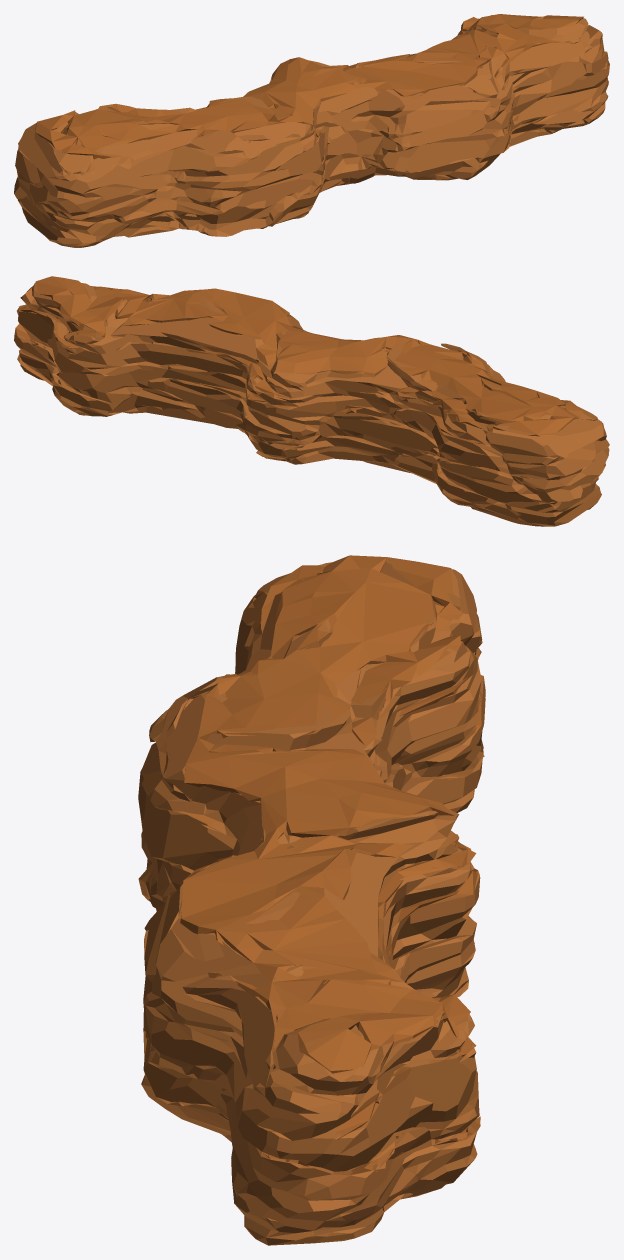
File: Mountain02.gltf
3 views of the same model, one above another, from view 1: azimuth 30°, elevation 25°; view 2: azimuth 150°, elevation 25°; view 3: azimuth 270°, elevation 25° (orthographic). The views are drawn at different scales.
Visible parts, largest first — view 1: Cube.044; view 2: Cube.044; view 3: Cube.044.
Part boxes in pixels (bbox=[...]): Cube.044: bbox=[14, 14, 609, 247]; Cube.044: bbox=[14, 276, 609, 526]; Cube.044: bbox=[138, 555, 485, 1245].
Size of the model in its own units: 201 by 34.79 by 53.3.
